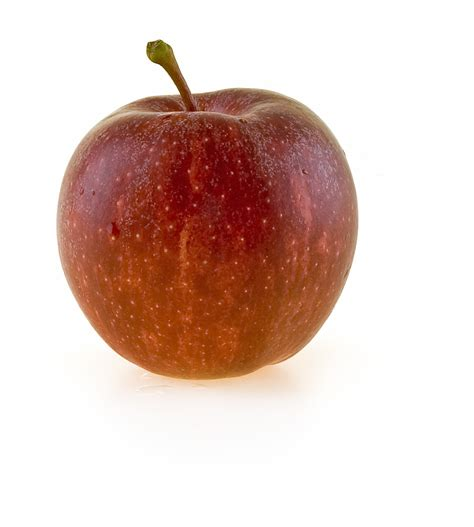apple: (54, 38, 362, 385)
